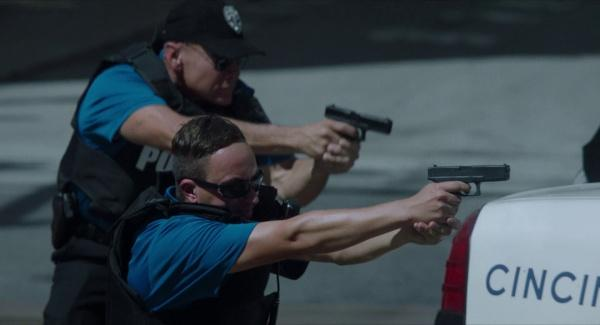Gun: (426, 162, 512, 197), (324, 104, 394, 144)
